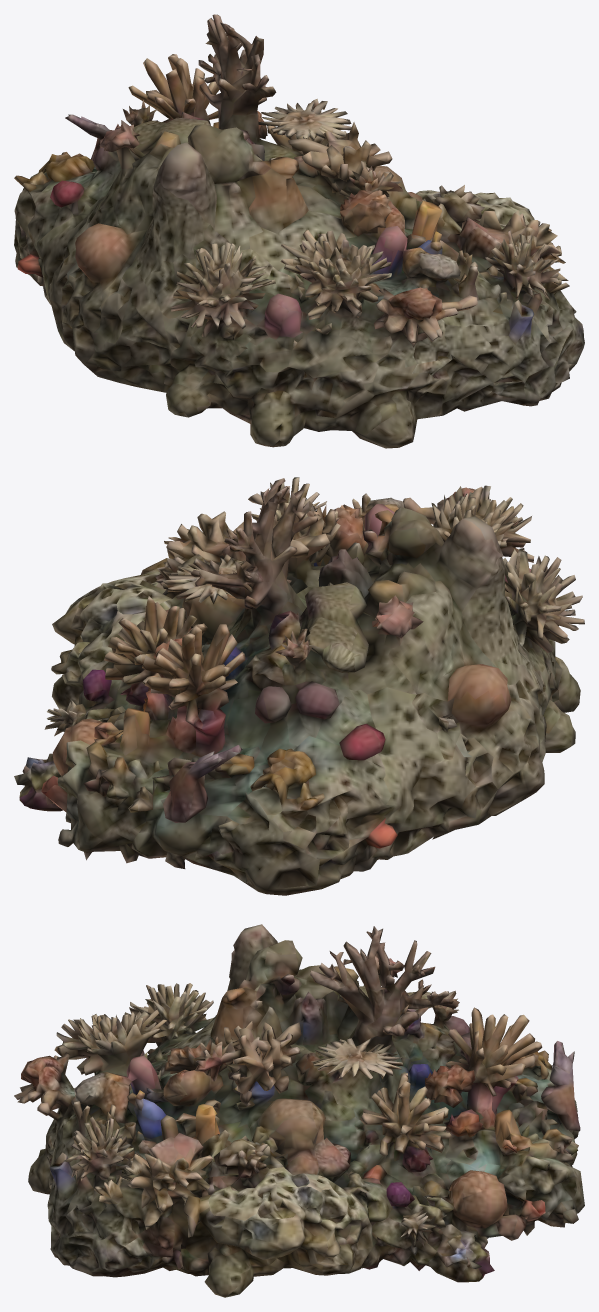
File: reef-shelf.glb
The picture shows the model from 3 angles, top to bottom: view 1: azimuth 30°, elevation 25°; view 2: azimuth 150°, elevation 25°; view 3: azimuth 270°, elevation 25°; orthographic projection. The views are drawn at different scales.
Parts seen in each view (by area): view 1: tripo_node_d6195e38-683b-44e2-b464-88540a357d0d; view 2: tripo_node_d6195e38-683b-44e2-b464-88540a357d0d; view 3: tripo_node_d6195e38-683b-44e2-b464-88540a357d0d.
Boxes of the visible parts, left/top/right/bottom form: tripo_node_d6195e38-683b-44e2-b464-88540a357d0d: left=14, top=14, right=584, bottom=448; tripo_node_d6195e38-683b-44e2-b464-88540a357d0d: left=14, top=477, right=584, bottom=895; tripo_node_d6195e38-683b-44e2-b464-88540a357d0d: left=14, top=924, right=584, bottom=1297.
Bounding box in the file's own units: 0.8332 × 0.5281 × 0.9972.
Materials: 1 (1 with a texture image).
